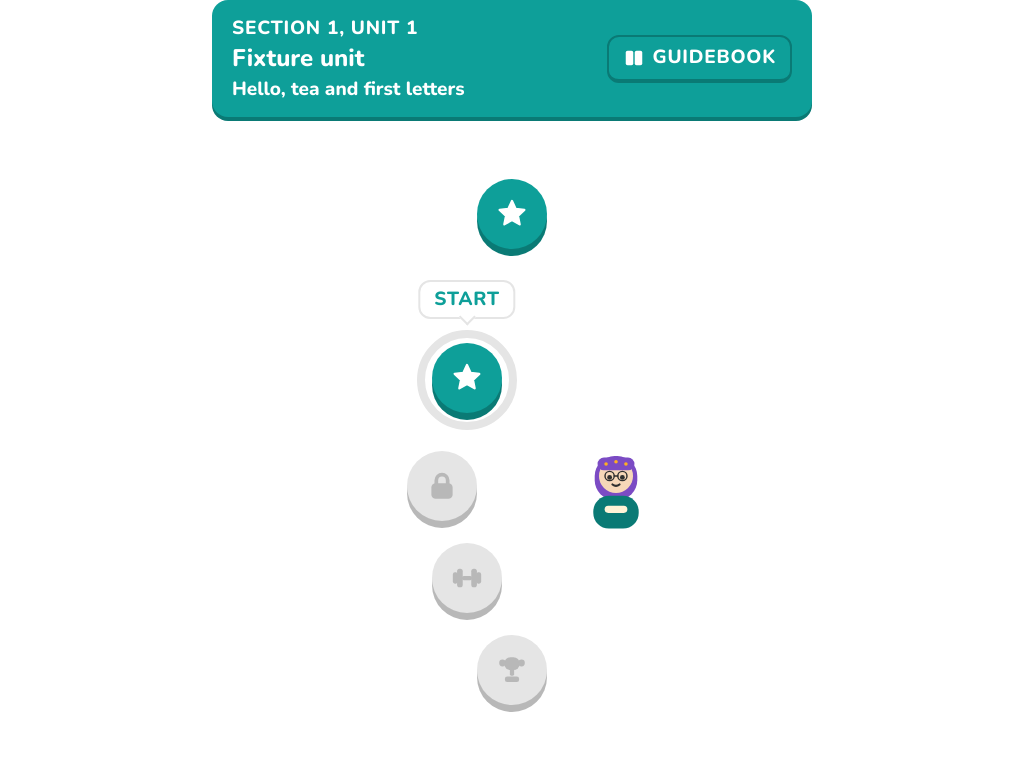
Test: level popover › offers START for the current level with the lesson URL
The width and height of the screenshot is (1024, 768).
Click the button named "Lesson: Course challenges, current, 0% complete". click: [467, 378]
box: [432, 343, 502, 413]
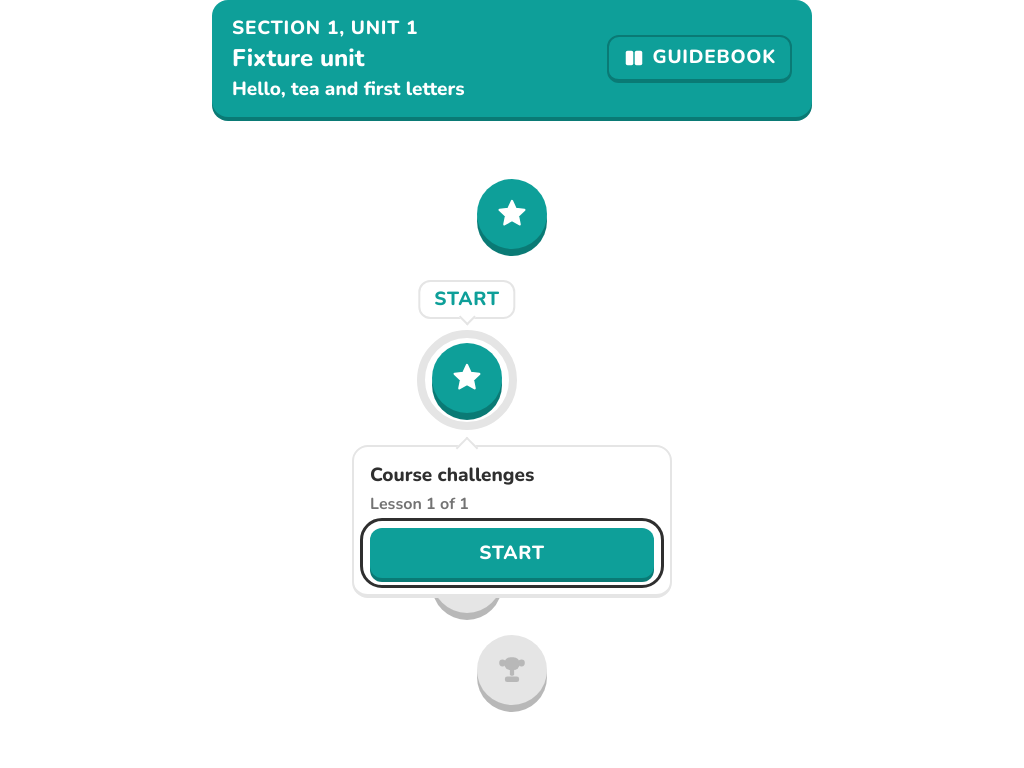
Check: the text "Lesson 1 of 1" is shown, box [370, 493, 469, 515]
